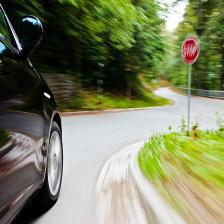Stop-sign: (178, 32, 202, 70)
